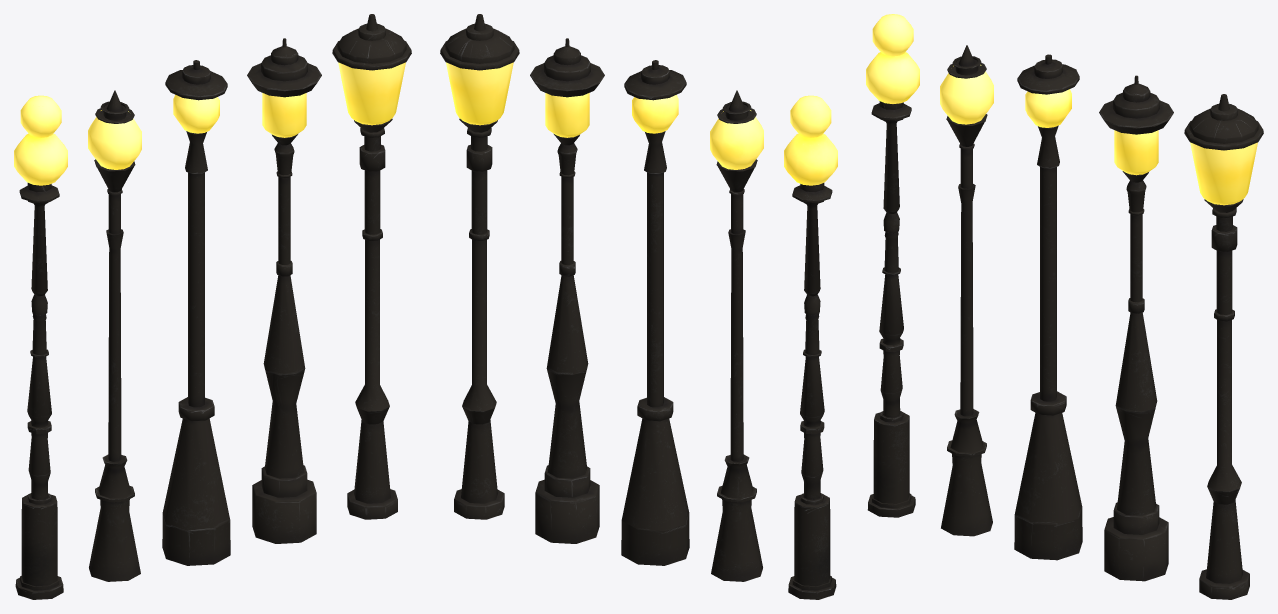
File: lamps_pack.glb
3 renders of one model, left to right at view 1: azimuth 30°, elevation 25°; view 2: azimuth 150°, elevation 25°; view 3: azimuth 330°, elevation 25°, orthographic.
Visible parts, largest first — view 1: 4_low, 3_low, 5_low, 1_low, 2_low; view 2: 4_low, 3_low, 5_low, 1_low, 2_low; view 3: 4_low, 3_low, 5_low, 1_low, 2_low.
Boxes of the visible parts, bbox=[...] form: 4_low: bbox=[247, 38, 321, 543]; 3_low: bbox=[162, 60, 230, 565]; 5_low: bbox=[332, 14, 411, 519]; 1_low: bbox=[14, 95, 67, 599]; 2_low: bbox=[88, 90, 141, 581]; 4_low: bbox=[530, 38, 604, 543]; 3_low: bbox=[621, 60, 689, 565]; 5_low: bbox=[440, 14, 519, 519]; 1_low: bbox=[784, 95, 837, 599]; 2_low: bbox=[710, 90, 763, 581]; 4_low: bbox=[1099, 75, 1173, 581]; 3_low: bbox=[1014, 54, 1082, 560]; 5_low: bbox=[1184, 94, 1263, 599]; 1_low: bbox=[866, 14, 919, 517]; 2_low: bbox=[940, 45, 993, 536].
Size of the model in its own units: 2.74 by 3.33 by 0.486.
Materials: 2 (2 with a texture image).
